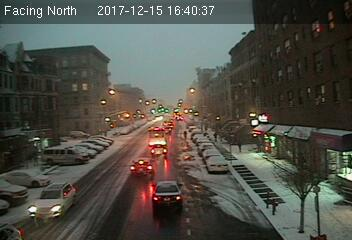bicycle: (182, 130, 188, 141)
car: (27, 181, 77, 220), (153, 178, 182, 212), (129, 156, 154, 180), (204, 157, 229, 174), (150, 145, 169, 158)
